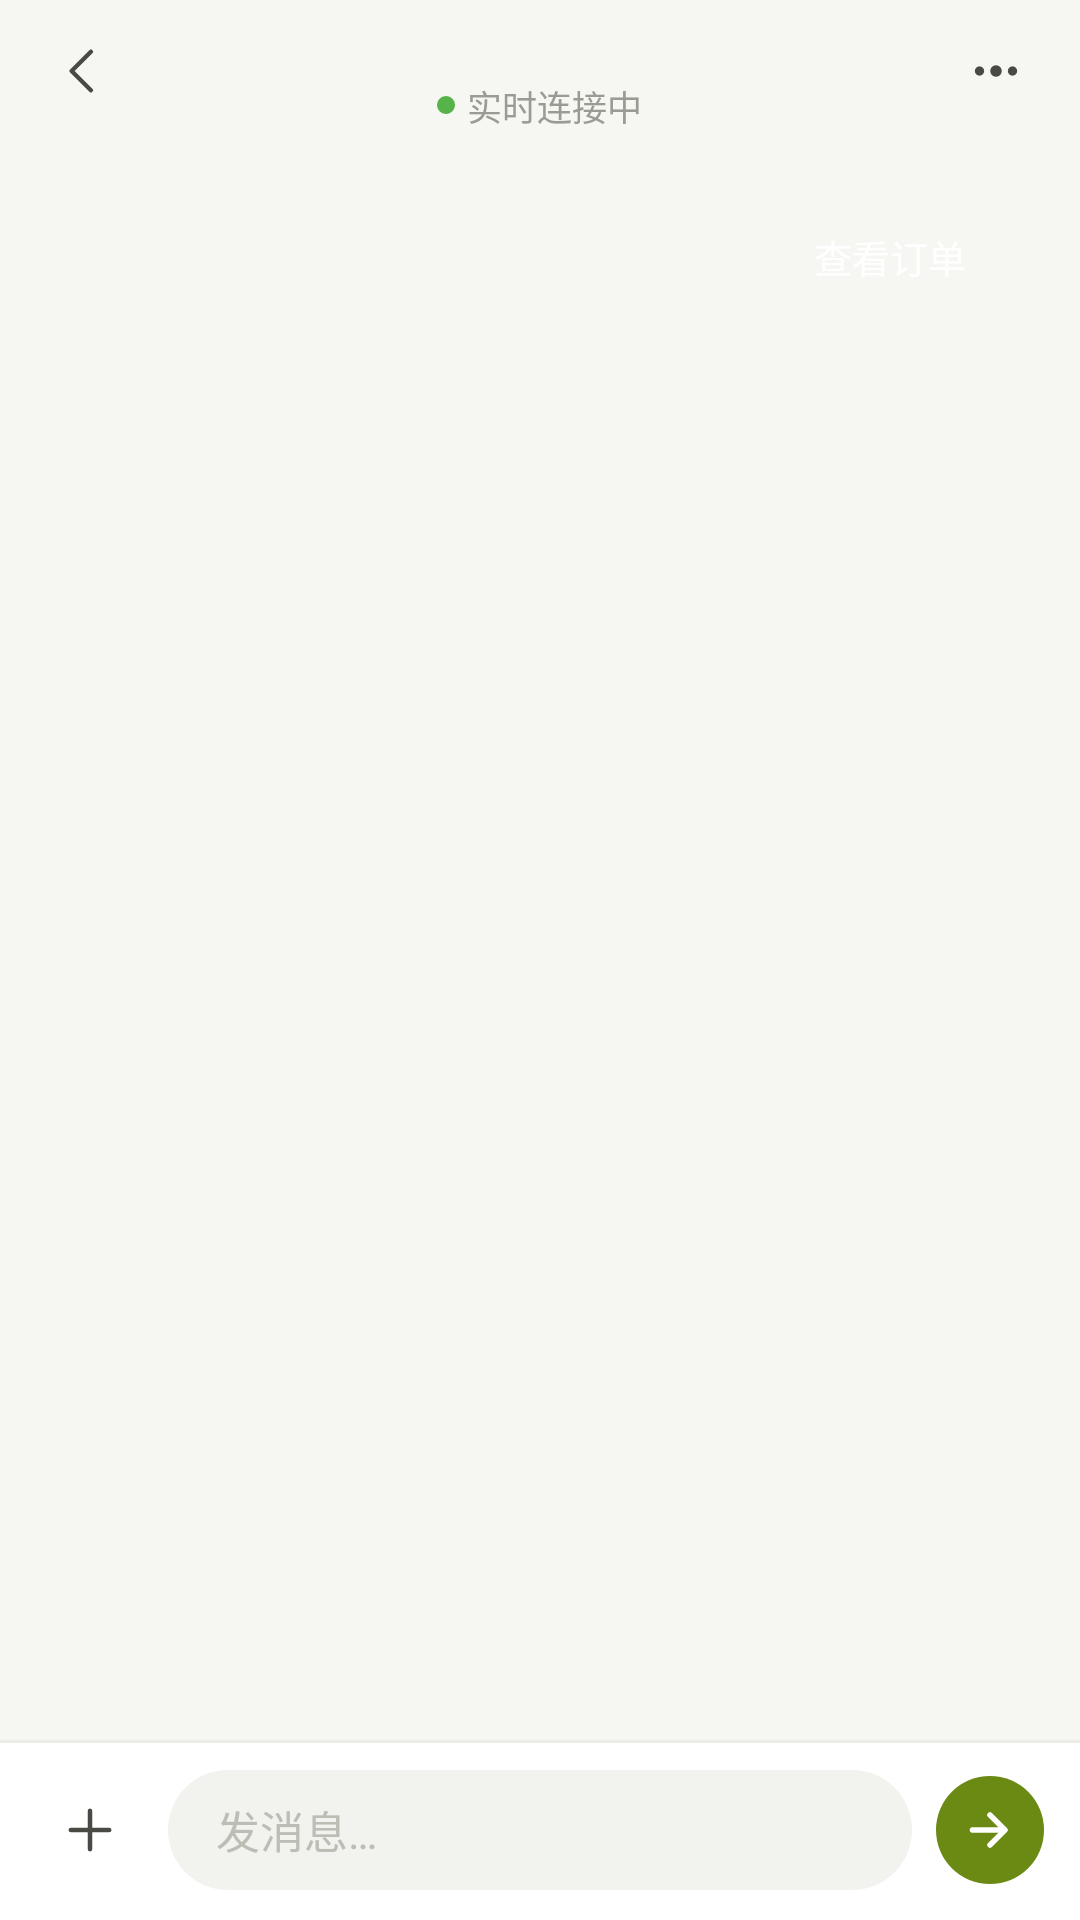

Named icons in this screenshot (1080*1920) and their centers, point (x, y):
发送: point (990, 1830)
更多: point (996, 71)
更多功能: point (90, 1830)
返回: point (81, 71)
